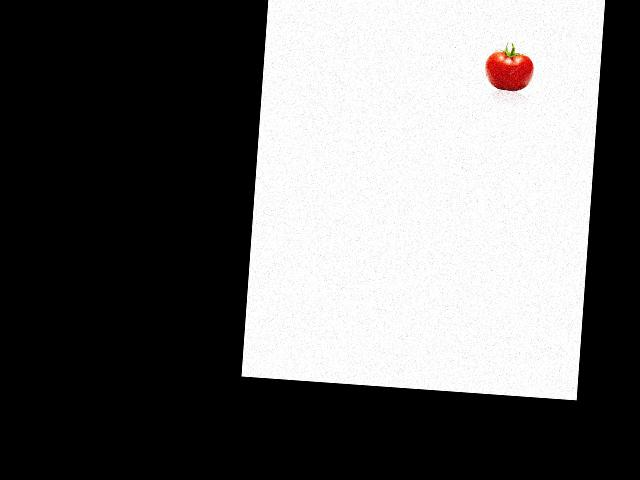tomato: (483, 50, 535, 92)
